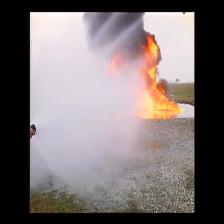fire: (141, 58, 174, 121)
